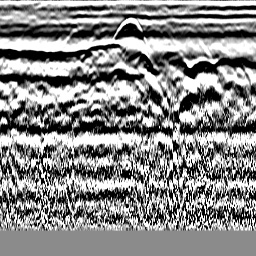cavity: (113, 15, 145, 41)
